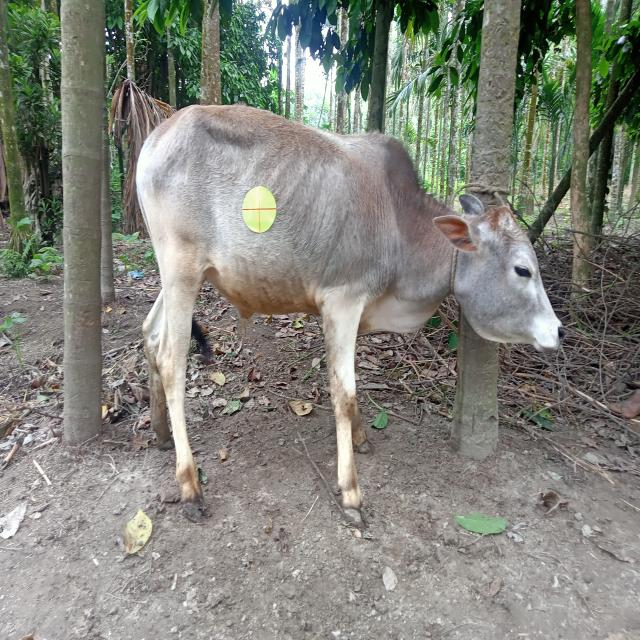badan_sapi: (138, 116, 416, 316)
sapi: (129, 97, 567, 520)
